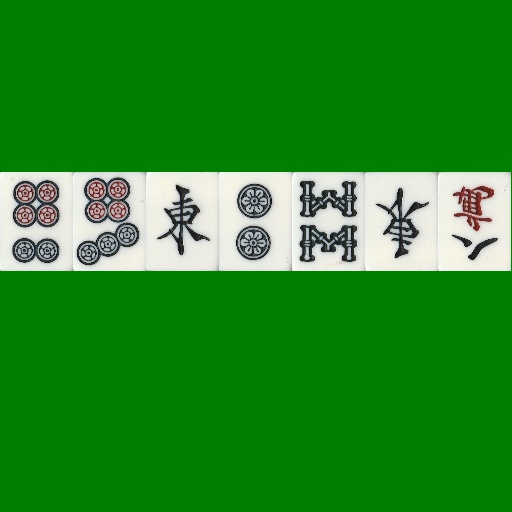2p: (219, 172, 292, 271)
6p: (0, 172, 73, 271)
7p: (73, 172, 146, 271)
8m: (438, 172, 511, 271)
8s: (292, 172, 365, 271)
east: (146, 172, 219, 271), (365, 172, 438, 271)
